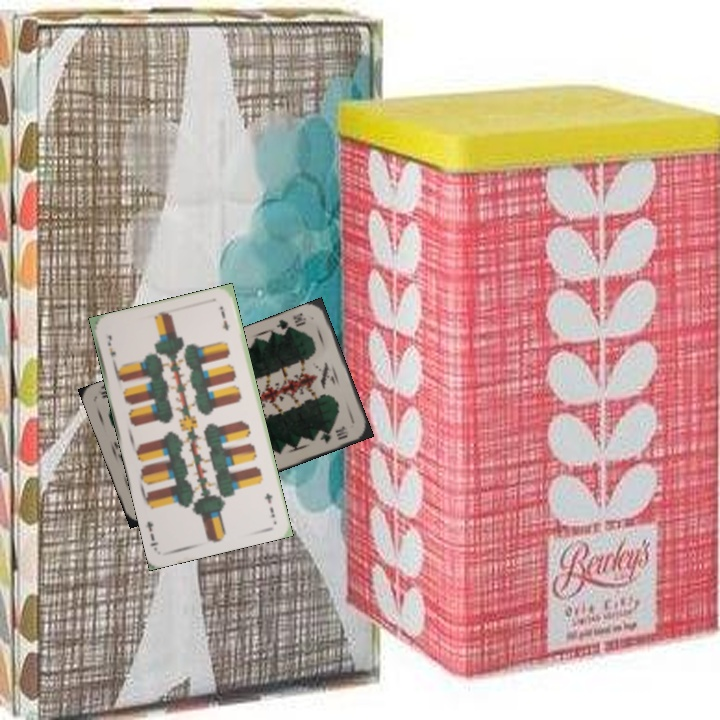E7: (104, 331, 119, 369), (260, 489, 277, 520)
G10: (272, 308, 309, 335)
